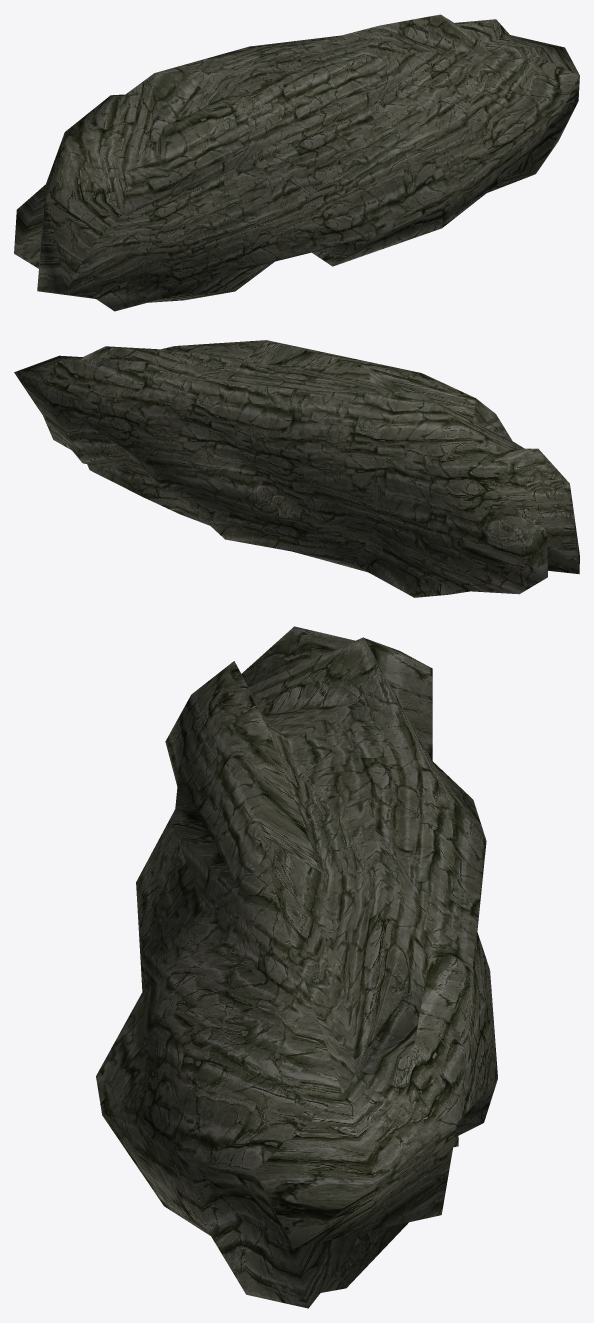
File: TI_Cliff_02_k_LOD_03.fbx
3 renders of one model, top to bottom at view 1: azimuth 30°, elevation 25°; view 2: azimuth 150°, elevation 25°; view 3: azimuth 270°, elevation 25°, orthographic. The views are drawn at different scales.
Parts seen in each view (by area): view 1: TI_Cliff_02_k_LOD_03; view 2: TI_Cliff_02_k_LOD_03; view 3: TI_Cliff_02_k_LOD_03.
Part boxes in pixels (x1,y1,x2,y2): TI_Cliff_02_k_LOD_03: (14,14,579,311); TI_Cliff_02_k_LOD_03: (14,340,579,597); TI_Cliff_02_k_LOD_03: (96,626,497,1308).
Size of the model in its own units: 21.92 by 7.99 by 7.06.
